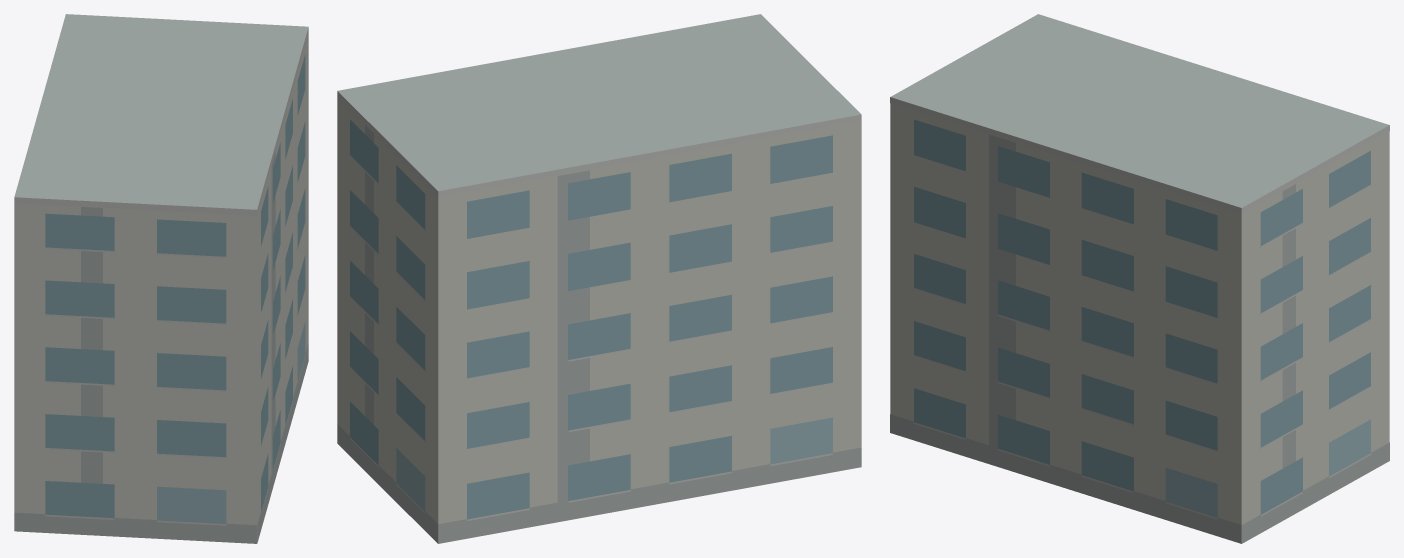
Rendered from survey-upis-32713164.glb.
3 views of the same model, side by side, from view 1: azimuth 30°, elevation 25°; view 2: azimuth 150°, elevation 25°; view 3: azimuth 270°, elevation 25° (orthographic). The views are drawn at different scales.
Visible parts, largest first — view 1: survey-upis-32713164.tmp; view 2: survey-upis-32713164.tmp; view 3: survey-upis-32713164.tmp.
Part boxes in pixels (box(x1,y1,x2,y2)): survey-upis-32713164.tmp: box(14, 14, 308, 543); survey-upis-32713164.tmp: box(337, 14, 861, 543); survey-upis-32713164.tmp: box(890, 14, 1389, 543).
Size of the model in its own units: 16.36 by 13.2 by 17.8.
